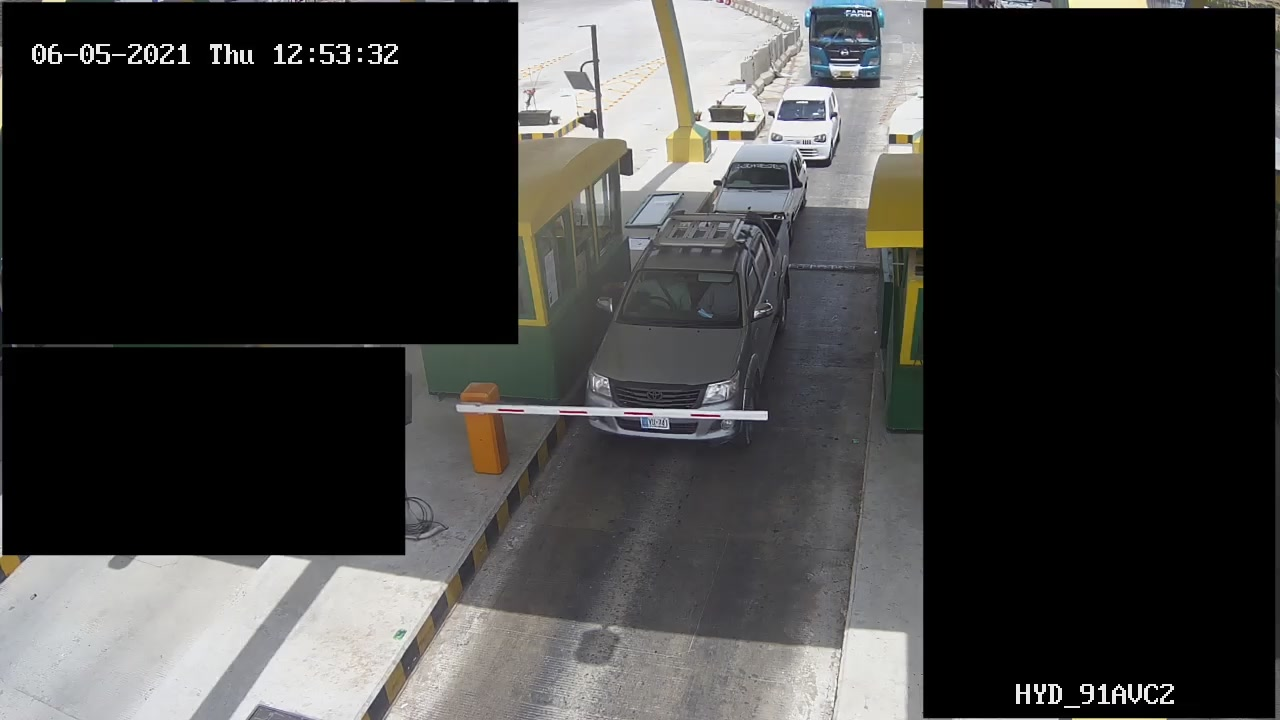F1: (580, 207, 802, 449)
